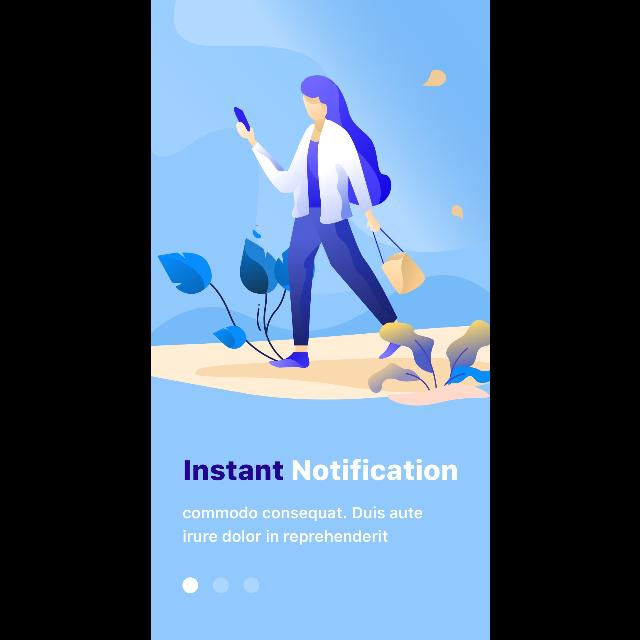image: (151, 1, 489, 407)
pageindicator: (181, 576, 259, 594)
text: (182, 506, 422, 546), (184, 458, 456, 482)
